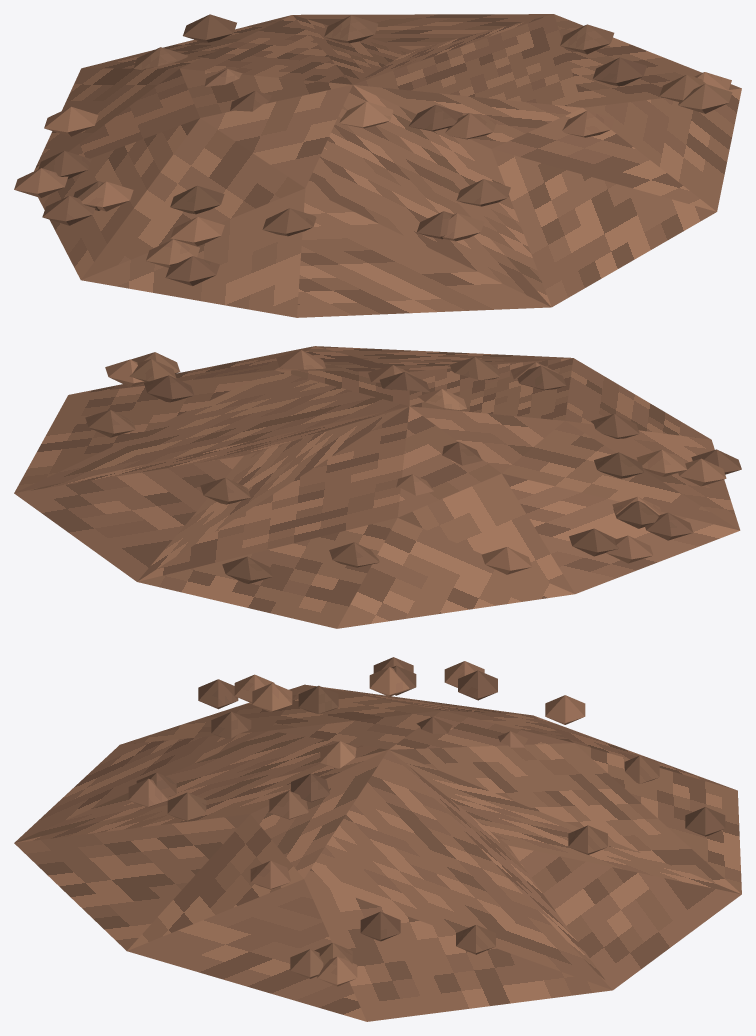
Rendered from catfood_dry.glb.
3 renders of one model, top to bottom at view 1: azimuth 30°, elevation 25°; view 2: azimuth 150°, elevation 25°; view 3: azimuth 270°, elevation 25°, orthographic. The views are drawn at different scales.
Visible parts, largest first — view 1: block_loose dry ingredients, block_loose grain 21, block_loose grain 24, block_loose grain 15, block_loose grain 18, block_loose grain 13, block_loose grain 22, block_loose grain 3, block_loose grain 20, block_loose grain 25, block_loose grain 2, block_loose grain 8 (+14 smaller); view 2: block_loose dry ingredients, block_loose grain 15, block_loose grain 24, block_loose grain 22, block_loose grain 13, block_loose grain 25, block_loose grain 14, block_loose grain 3, block_loose grain 18, block_loose grain 16, block_loose grain 4, block_loose grain 27 (+13 smaller); view 3: block_loose dry ingredients, block_loose grain 15, block_loose grain 13, block_loose grain 22, block_loose grain 18, block_loose grain 14, block_loose grain 24, block_loose grain 25, block_loose grain 3, block_loose grain 23, block_loose grain 21, block_loose grain 8 (+10 smaller).
Boxes of the visible parts, <box> form: block_loose dry ingredients: <box>34,14,741,317</box>; block_loose grain 21: <box>165,256,219,285</box>; block_loose grain 24: <box>560,24,614,54</box>; block_loose grain 15: <box>44,106,98,136</box>; block_loose grain 18: <box>170,217,224,246</box>; block_loose grain 13: <box>593,57,646,86</box>; block_loose grain 22: <box>183,14,236,42</box>; block_loose grain 3: <box>170,185,224,214</box>; block_loose grain 20: <box>14,168,68,197</box>; block_loose grain 25: <box>324,15,378,43</box>; block_loose grain 2: <box>262,208,316,236</box>; block_loose grain 8: <box>456,179,510,206</box>; block_loose dry ingredients: <box>14,346,740,628</box>; block_loose grain 15: <box>482,547,531,574</box>; block_loose grain 24: <box>85,410,135,437</box>; block_loose grain 22: <box>222,556,272,583</box>; block_loose grain 13: <box>144,375,194,402</box>; block_loose grain 25: <box>200,477,250,504</box>; block_loose grain 14: <box>569,528,618,556</box>; block_loose grain 3: <box>594,452,644,478</box>; block_loose grain 18: <box>636,449,686,476</box>; block_loose grain 16: <box>678,458,726,486</box>; block_loose grain 4: <box>329,542,379,567</box>; block_loose grain 27: <box>645,512,693,540</box>; block_loose dry ingredients: <box>14,684,741,1021</box>; block_loose grain 15: <box>545,695,585,724</box>; block_loose grain 13: <box>360,911,400,941</box>; block_loose grain 22: <box>685,807,725,836</box>; block_loose grain 18: <box>252,683,292,712</box>; block_loose grain 14: <box>458,670,497,700</box>; block_loose grain 24: <box>456,925,495,954</box>; block_loose grain 25: <box>568,825,607,854</box>; block_loose grain 3: <box>298,685,338,713</box>; block_loose grain 23: <box>250,860,290,889</box>; block_loose grain 21: <box>198,679,238,709</box>; block_loose grain 8: <box>167,792,206,820</box>.
Size of the model in its own units: 0.0864 by 0.0109 by 0.0788.
1 material, 1 textured.
